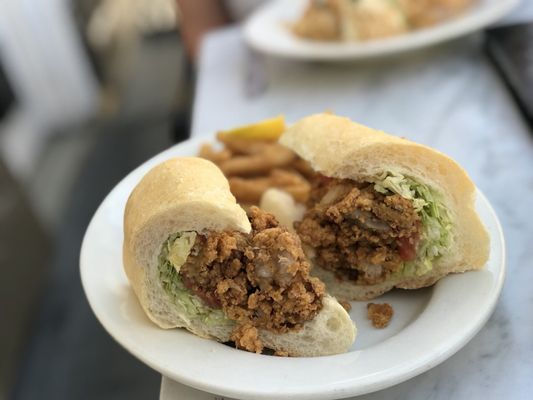soup: (278, 111, 492, 300)
sushi: (238, 0, 532, 73)
